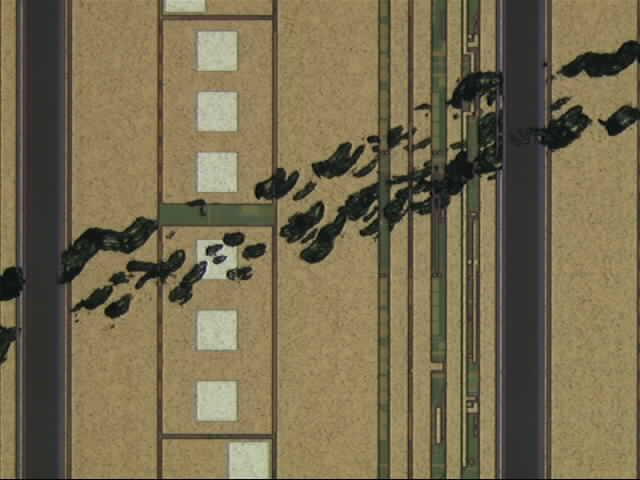SCRATCH: (1, 42, 640, 367)
